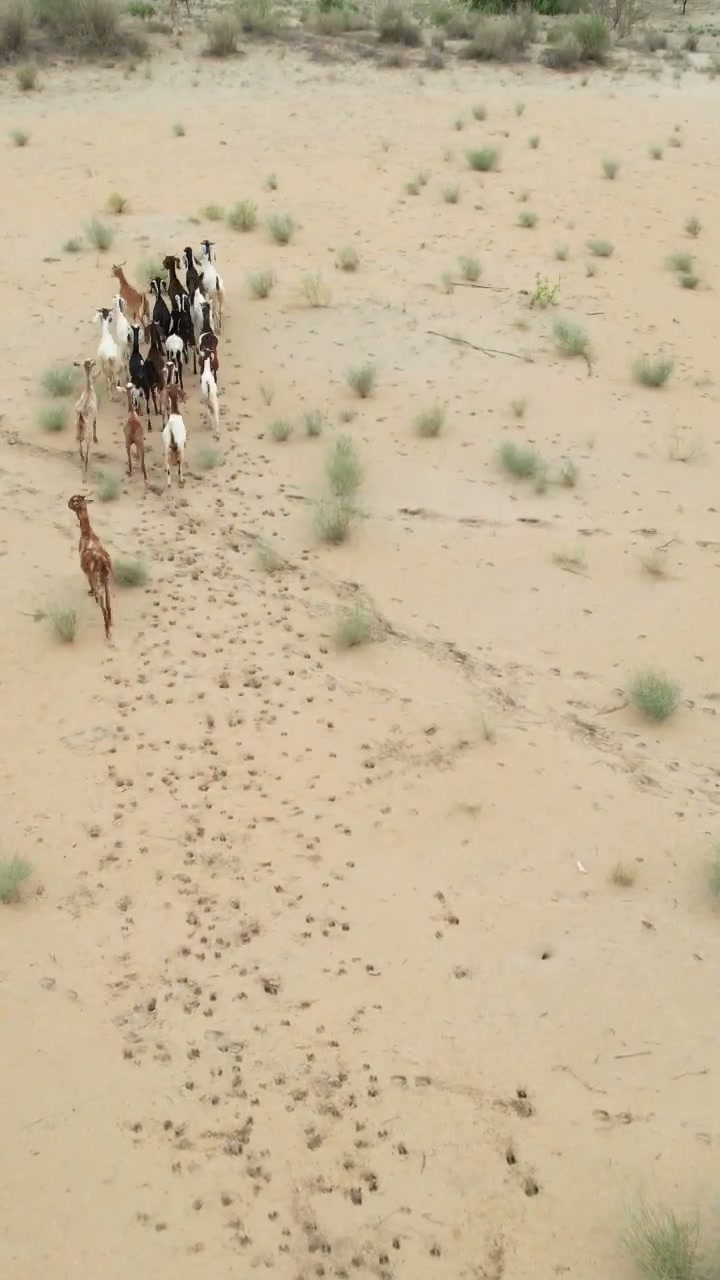animal_foot_print: (91, 425, 421, 1277)
